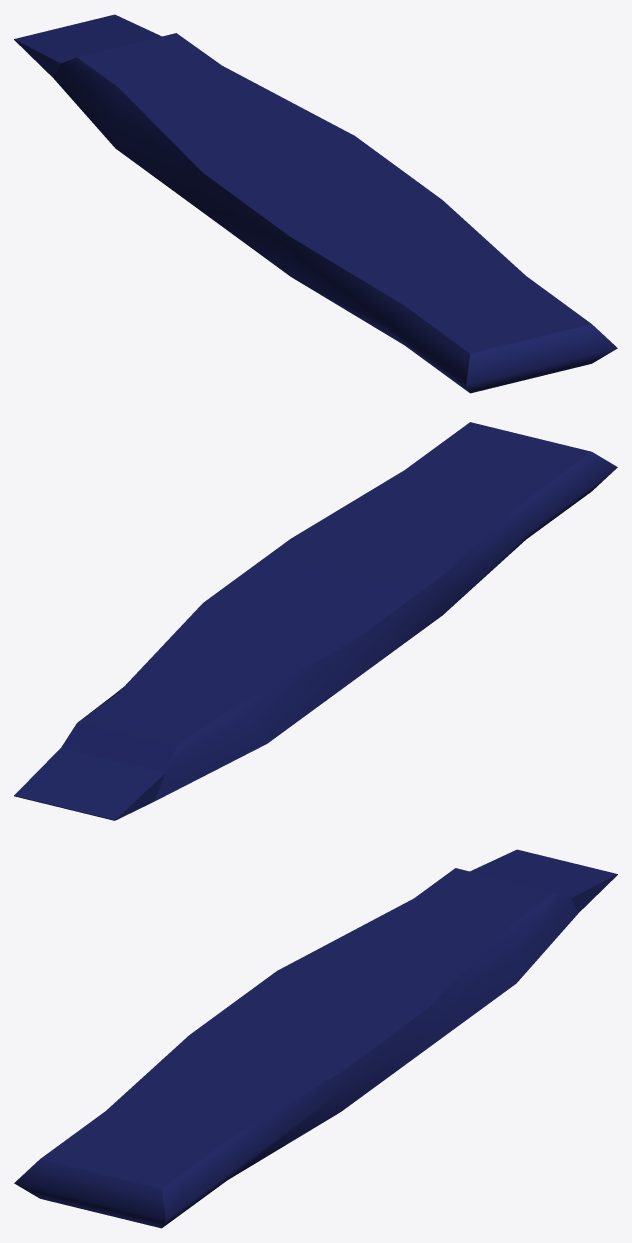
3 renders of one model, top to bottom at view 1: azimuth 30°, elevation 25°; view 2: azimuth 150°, elevation 25°; view 3: azimuth 330°, elevation 25°, orthographic.
Visible parts, largest first — view 1: Box001; view 2: Box001; view 3: Box001.
Boxes of the visible parts, x1,y1,x2,y2 form: Box001: [14, 14, 617, 393]; Box001: [14, 422, 617, 820]; Box001: [14, 849, 617, 1228].
Bounding box in the file's own units: 0.4724 × 0.1181 × 2.57.
